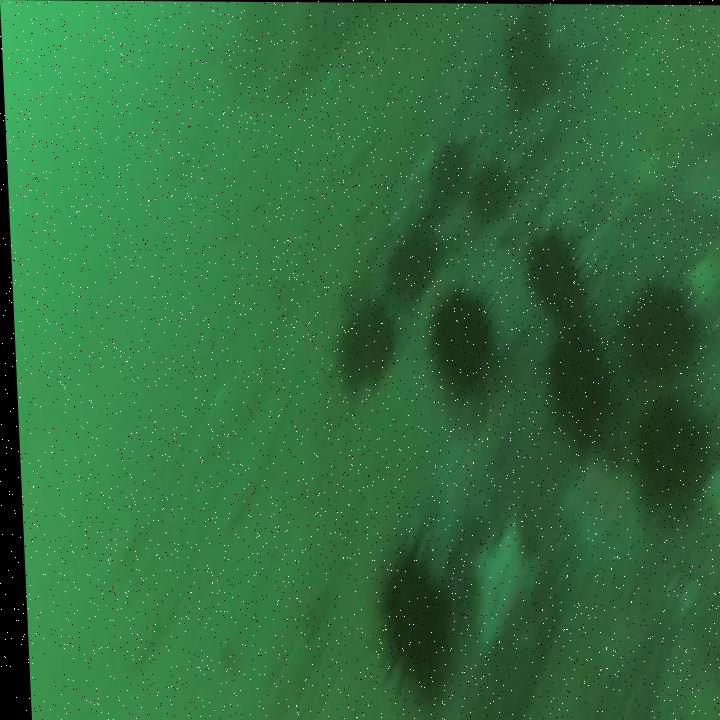echinus: (353, 508, 458, 717), (619, 390, 710, 516), (620, 258, 710, 385), (420, 279, 501, 410), (531, 321, 621, 434), (324, 283, 397, 400), (517, 216, 595, 325), (372, 210, 444, 312), (498, 17, 569, 117), (416, 136, 472, 210), (462, 152, 512, 225)
starfish: (456, 504, 544, 659), (551, 442, 644, 578)
